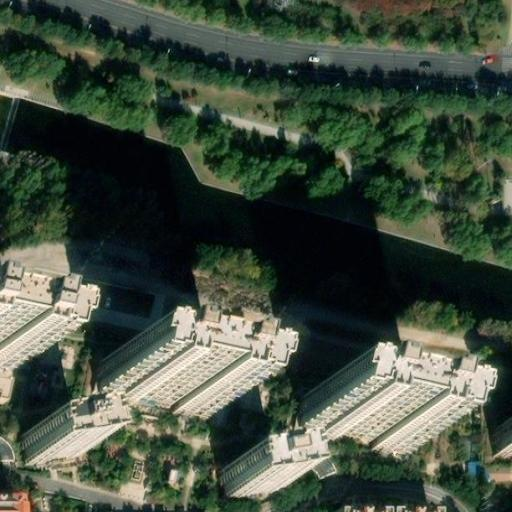building: (306, 391, 437, 453), (105, 352, 236, 414), (24, 420, 86, 461), (224, 457, 282, 492), (0, 324, 40, 372), (339, 505, 448, 512), (0, 366, 17, 400), (498, 423, 512, 451)
